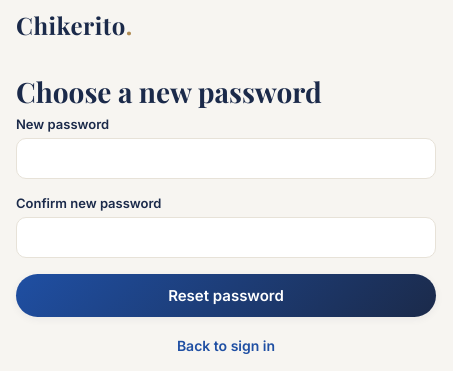
Scenario: ResetPassword › submits the token and new password
Type "newpassword1" into the 1st password field. click: (226, 158)
box: [16,138,436,178]
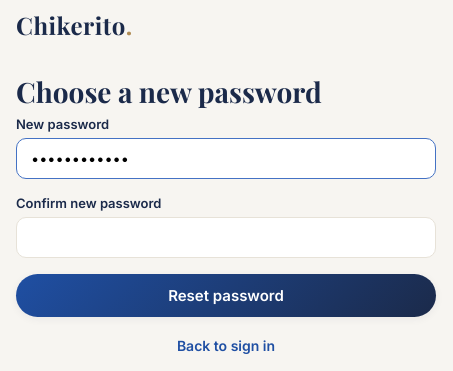
Type "newpassword1" into the password field below "Confirm new password". click: (226, 237)
box: [16,216,436,258]
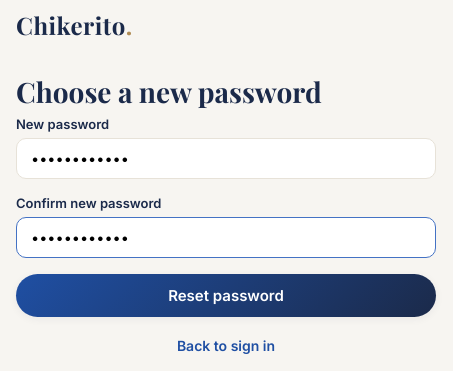
Click the button "Reset password". click: (226, 295)
box: [16,274,436,316]
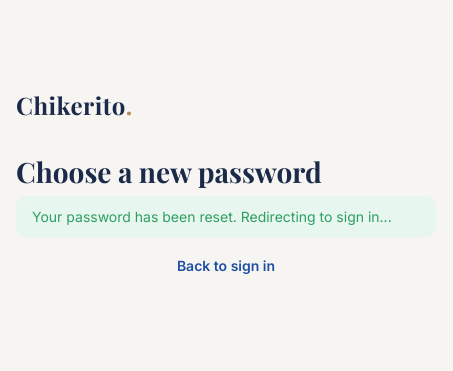
expect the text "Your password has been reset. Redirecting to sign in..." is shown: met, box [16,196,436,236]
